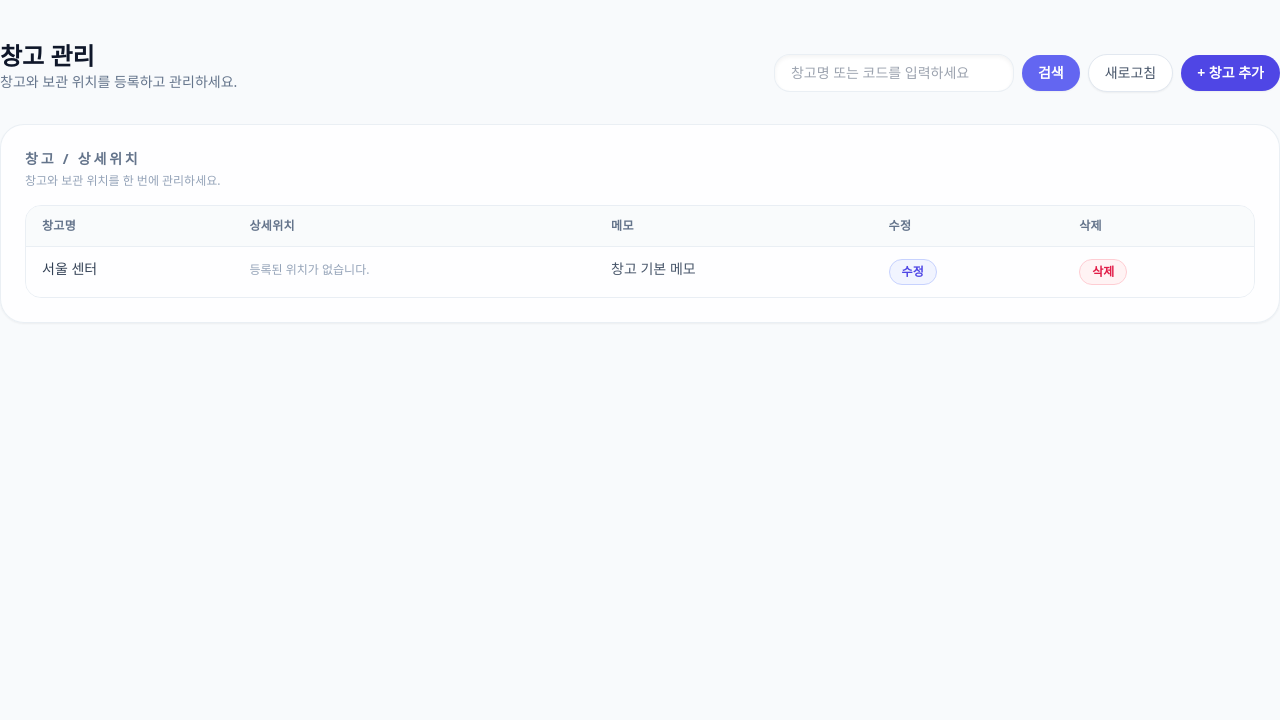
Test: WarehouseManagementPanel - 수정 동작 › disables detail location editing when the row has no location and updates warehouse notes
Click the button "수정".
click(913, 272)  # box [889,259,937,285]
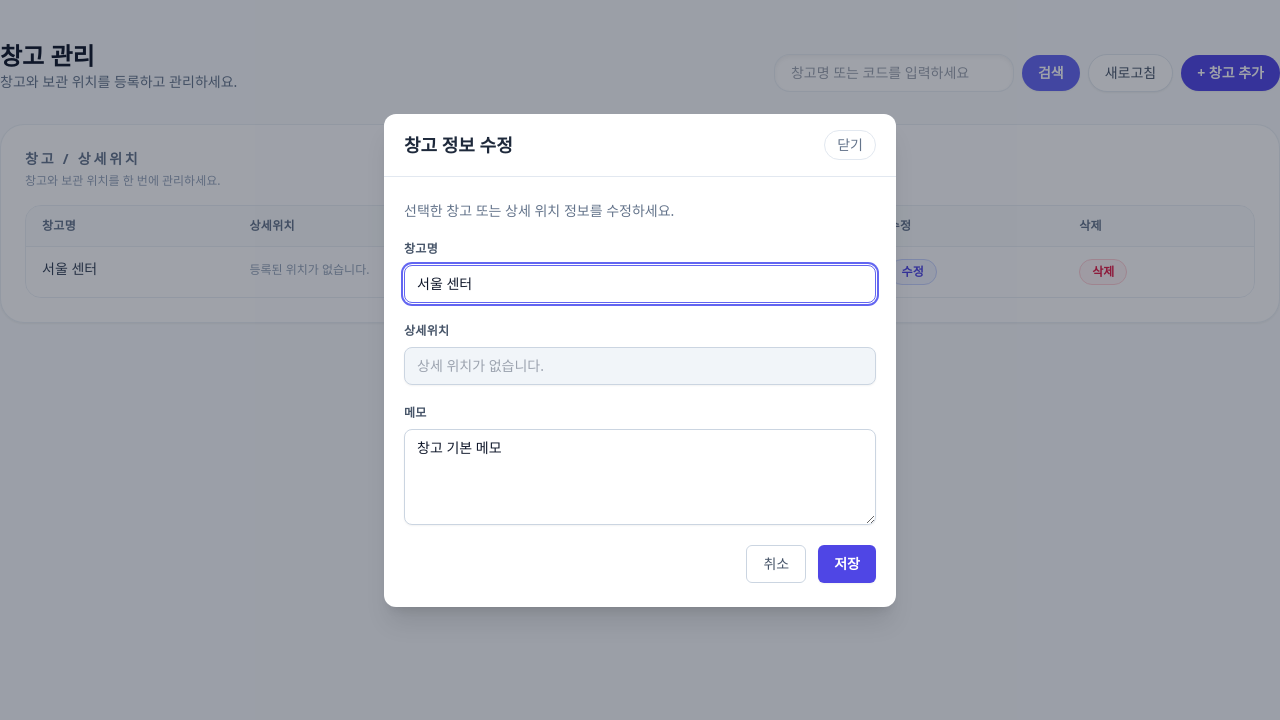
Result: the heading "창고 정보 수정" is shown at [404,130,513,158]
Result: the field labelled "상세위치" is disabled at [404,346,876,384]
Result: the text box labelled "메모" holds "창고 기본 메모" at [404,428,876,524]
Replace the text in the field labelled "창고명" with "새로운 창고 이름" at (640, 284), box [404,264,876,302]
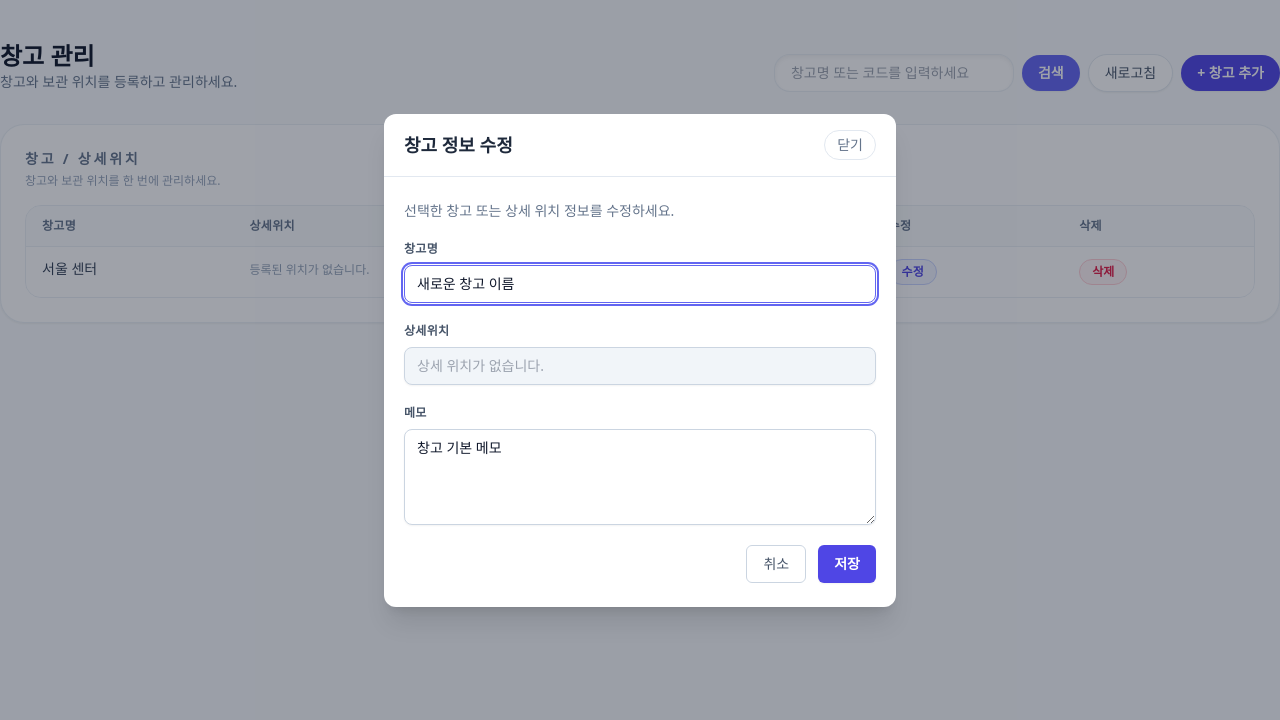
Replace the text in the text box labelled "메모" with "창고 메모 업데이트" at (640, 476), box [404,428,876,524]
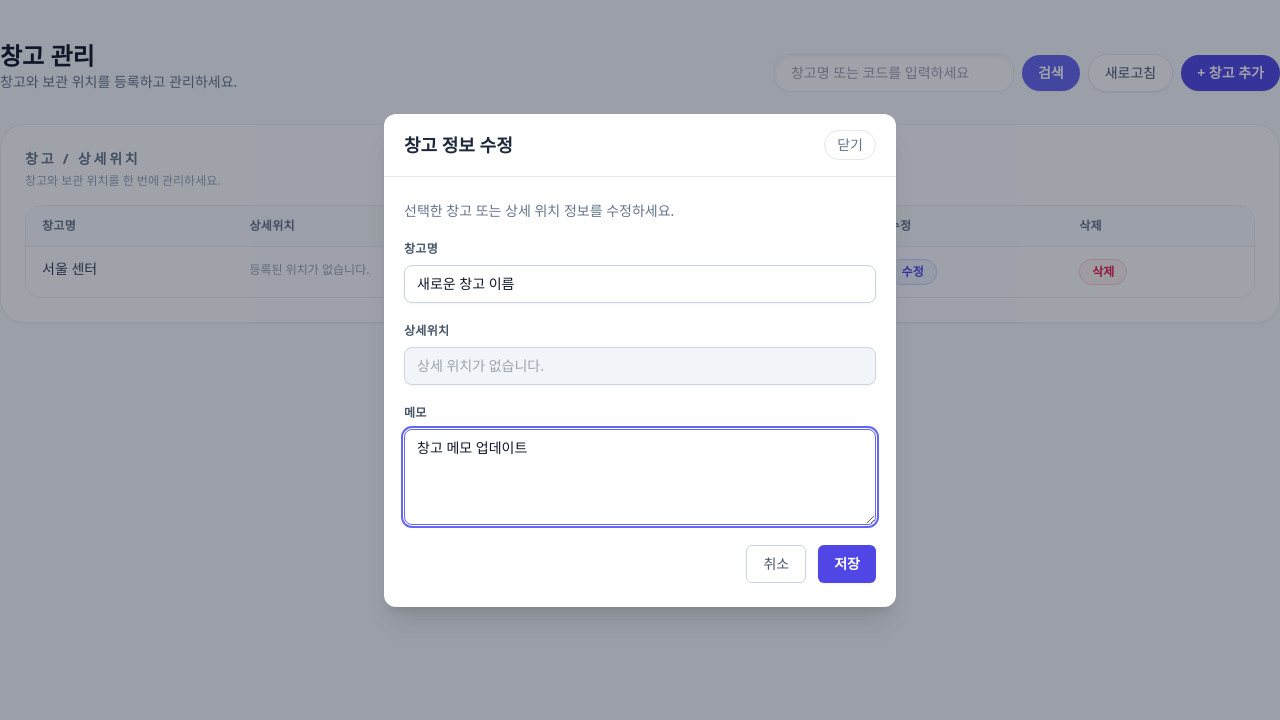
Click the button "저장".
click(847, 564)  # box [818,544,876,582]
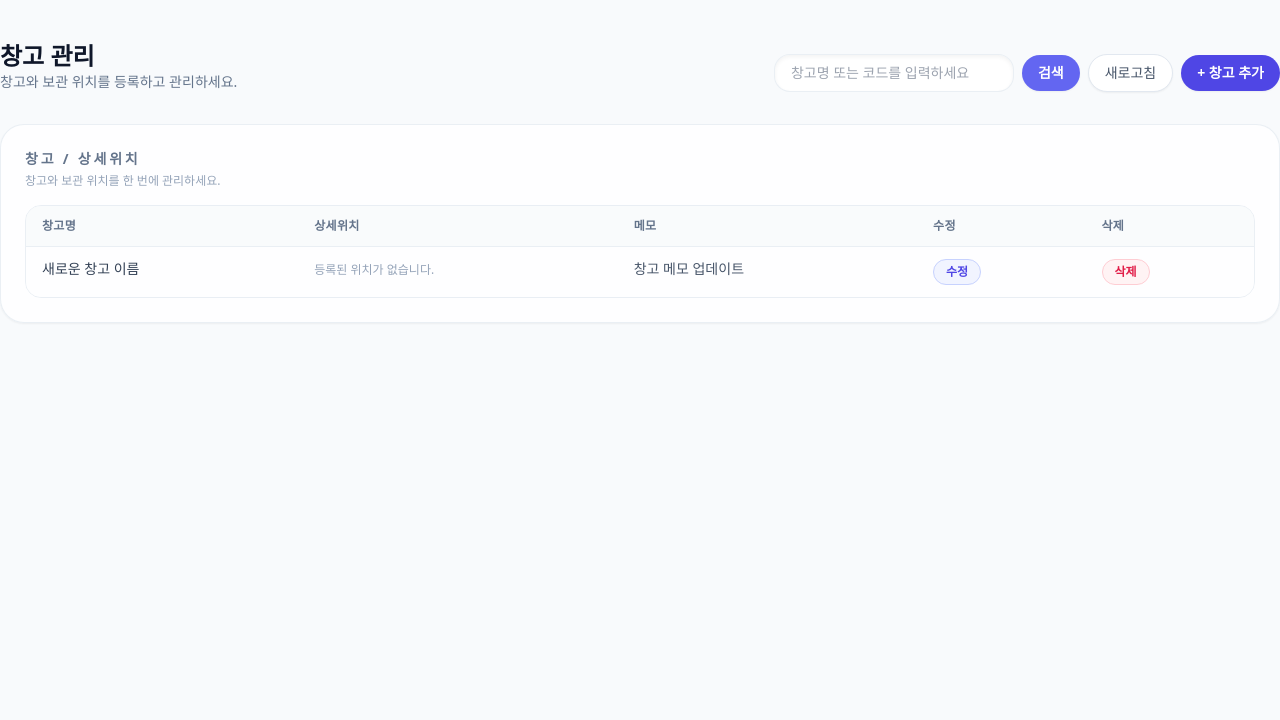
Result: the heading "창고 정보 수정" is gone
Result: the text "새로운 창고 이름" is shown at [42,259,140,278]
Result: the text "창고 메모 업데이트" is shown at [634,259,744,278]
